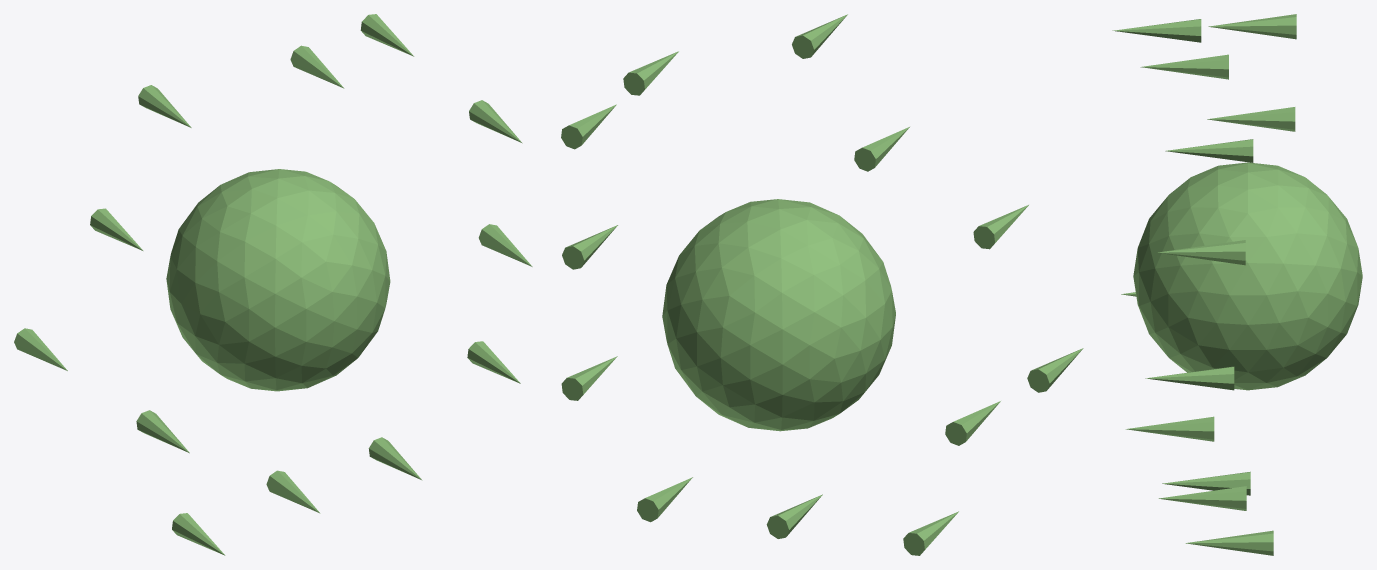
Rendered from love_029.glb.
3 views of the same model, side by side, from view 1: azimuth 30°, elevation 25°; view 2: azimuth 150°, elevation 25°; view 3: azimuth 270°, elevation 25° (orthographic). The views are drawn at different scales.
Visible parts, largest first — view 1: world; view 2: world; view 3: world.
Boxes of the visible parts, left/top/right/bottom form: world: left=14, top=14, right=532, bottom=555; world: left=561, top=14, right=1083, bottom=555; world: left=1112, top=14, right=1362, bottom=555.
Size of the model in its own units: 2.21 by 2.07 by 0.9829.
